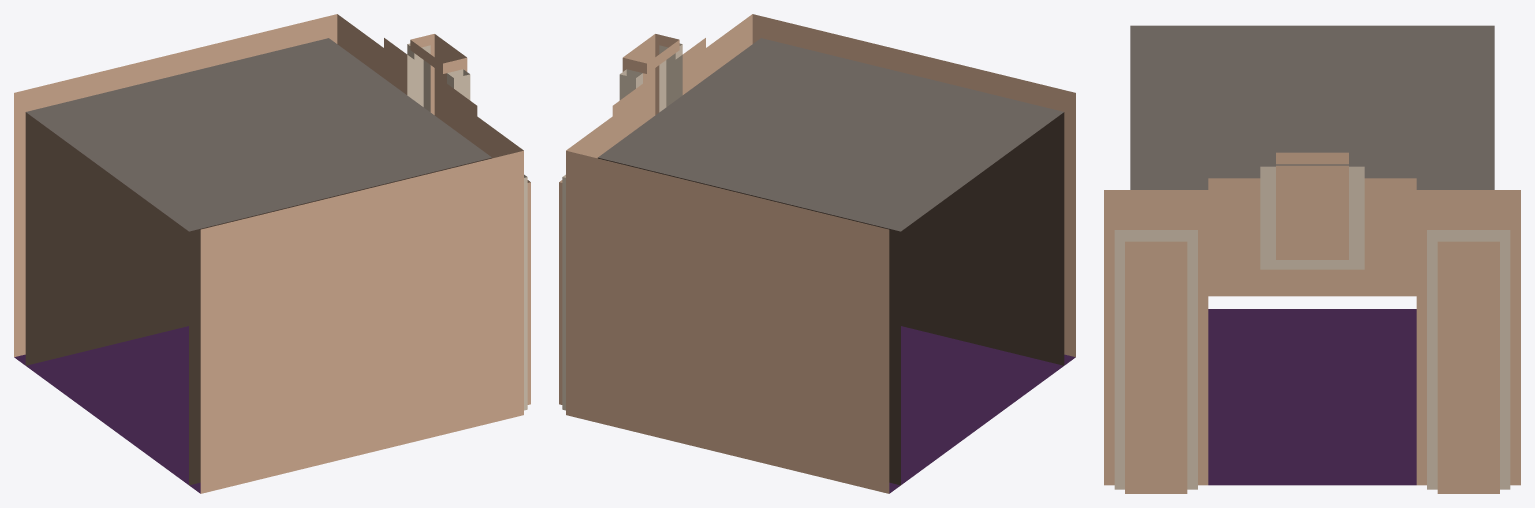
The model's file is small_chamber.dae.
3 renders of one model, left to right at view 1: azimuth 30°, elevation 25°; view 2: azimuth 150°, elevation 25°; view 3: azimuth 270°, elevation 25°, orthographic. The views are drawn at different scales.
Parts seen in each view (by area): view 1: $dummy_node (×5); view 2: $dummy_node (×5); view 3: $dummy_node (×4).
Part boxes in pixels (box(x1,y1,x2,y2)): $dummy_node (×5): box(14, 14, 530, 493); $dummy_node (×5): box(559, 14, 1075, 493); $dummy_node (×4): box(1104, 25, 1520, 493).
Bounding box in the file's own units: 8.5 × 7 × 8.
